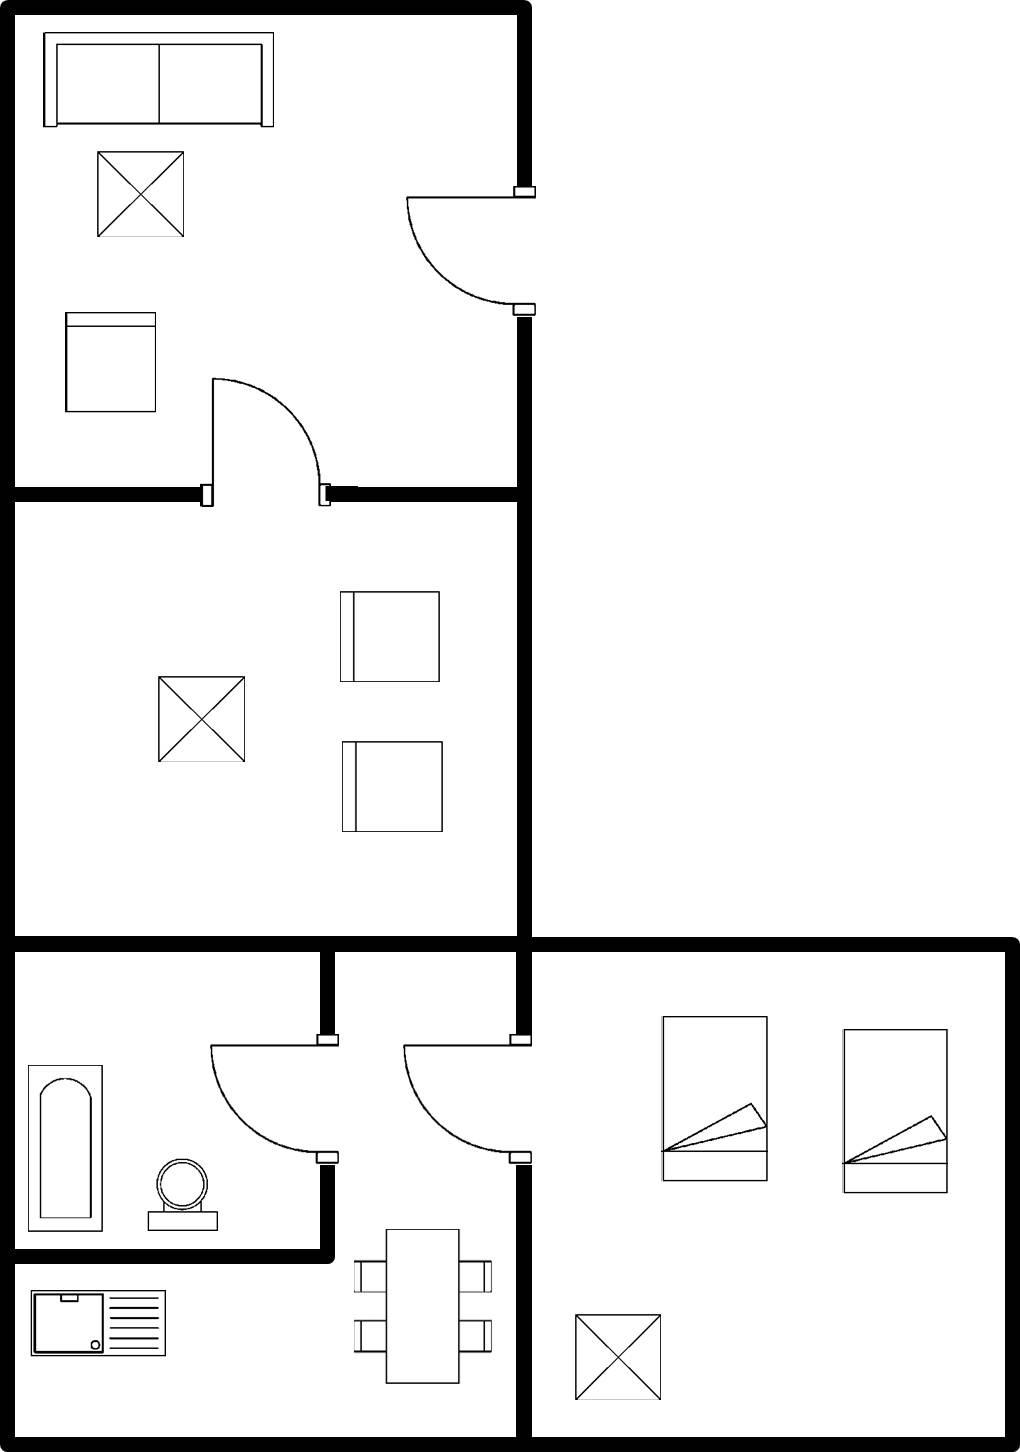bed: (831, 1021, 958, 1205), (652, 1008, 776, 1192)
dining_table: (344, 1218, 499, 1394)
sink: (21, 1283, 172, 1364)
sofa: (31, 17, 283, 135)
toilet: (136, 1150, 224, 1240)
tub: (19, 1057, 117, 1240)
